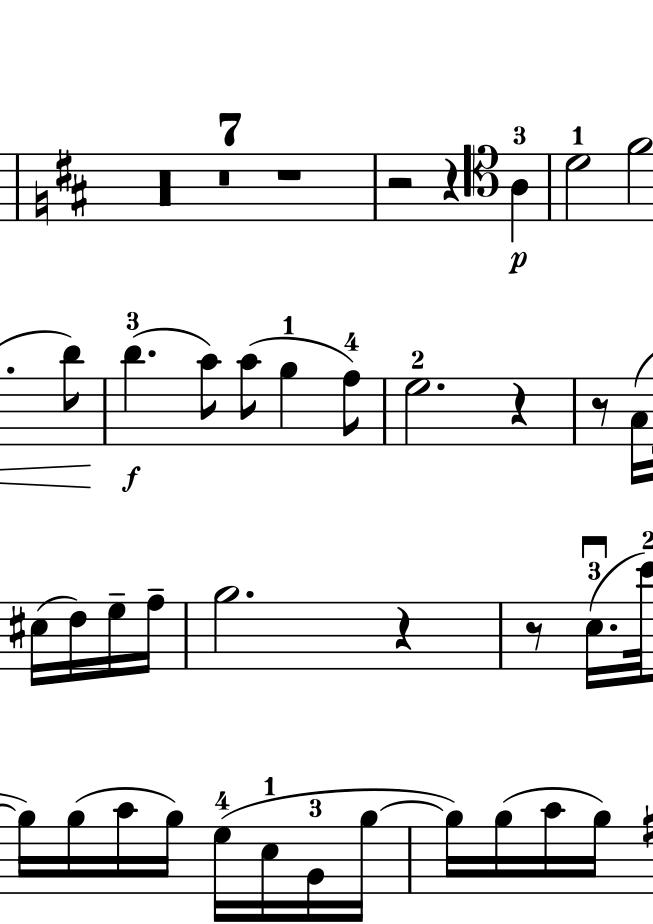1: (282, 311, 297, 334), (261, 774, 276, 797), (571, 121, 584, 145)
16_10: (540, 800, 567, 896), (113, 800, 139, 895)
16_2: (304, 826, 326, 924)
16_3: (630, 375, 648, 486)
16_5: (259, 824, 280, 924), (583, 602, 605, 692), (28, 601, 49, 688)
16_6: (67, 600, 87, 684)
16_7: (212, 823, 231, 924), (104, 599, 125, 681)
16_8: (136, 593, 165, 675)
16_9: (346, 810, 377, 924), (583, 809, 611, 896), (155, 809, 182, 897), (492, 808, 513, 897), (444, 808, 464, 898), (65, 808, 85, 896), (16, 808, 35, 896)
2: (409, 349, 425, 370)
2_7: (562, 153, 590, 222), (403, 377, 430, 447)
2_9: (210, 585, 239, 672), (624, 135, 652, 222)
3: (308, 795, 323, 821), (585, 559, 601, 582), (512, 124, 527, 146), (125, 310, 140, 331)
32_12: (624, 561, 653, 688)
4: (211, 788, 232, 811), (343, 330, 360, 352)
4_11: (120, 344, 144, 446)
4_4: (508, 152, 530, 242)
4_9: (277, 360, 300, 446)
7: (217, 110, 242, 145)
8_10: (236, 352, 262, 447), (196, 353, 222, 447)
8_11: (59, 345, 82, 448)
8_8: (340, 369, 361, 448)
D_S: (54, 148, 88, 218)
Down_bow: (581, 534, 608, 560)
Natural: (32, 179, 50, 227)
Rests1: (272, 166, 305, 185)
Rests2: (384, 174, 417, 195)
Rests4: (508, 381, 530, 429), (393, 605, 414, 654), (439, 157, 458, 202)
Rests8: (590, 395, 612, 428), (524, 620, 546, 652)
Sharp: (7, 603, 27, 651)
Single_barline: (367, 154, 383, 220), (567, 377, 583, 442), (11, 155, 26, 221), (493, 602, 508, 668), (402, 827, 417, 893), (179, 603, 193, 668), (544, 155, 558, 219), (98, 381, 112, 442)
Slur: (220, 791, 457, 819), (589, 550, 645, 610), (251, 337, 354, 365), (500, 786, 605, 803), (75, 787, 175, 804), (132, 327, 211, 344), (381, 798, 445, 810), (37, 595, 75, 610)
Tensor_Cclef: (461, 143, 499, 222)
dot: (606, 620, 619, 634), (145, 346, 157, 360), (434, 380, 446, 392), (243, 589, 255, 600)
f: (119, 465, 145, 494)
p: (507, 249, 530, 278)
